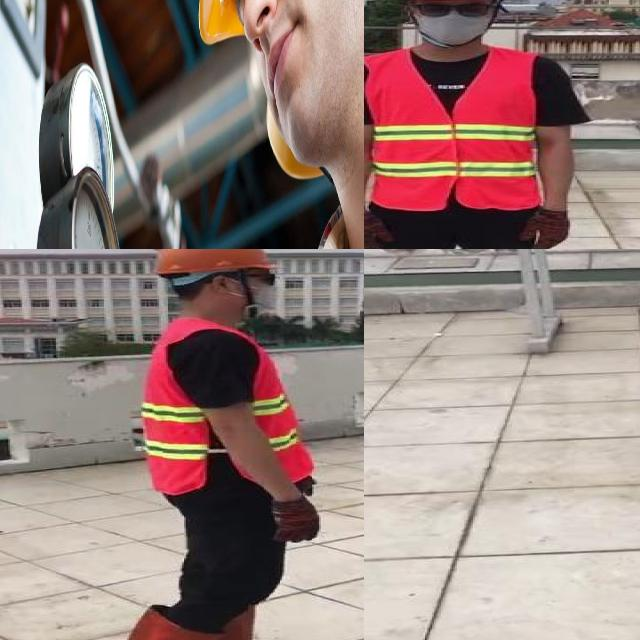boots: (187, 602, 313, 640), (96, 604, 219, 640)
face_mask: (407, 0, 496, 45)
glasses: (410, 0, 494, 20)
hand_glove: (262, 500, 323, 543), (515, 211, 570, 249), (364, 213, 394, 249)
head_helmet: (146, 249, 283, 278)
person: (81, 249, 346, 640), (364, 0, 585, 249)
vest: (141, 320, 314, 495), (364, 49, 541, 209)
